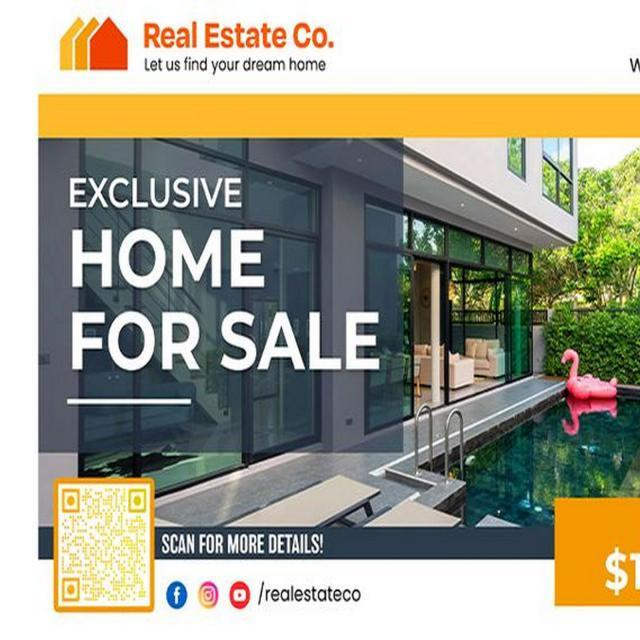qr_code: (62, 488, 147, 603)
